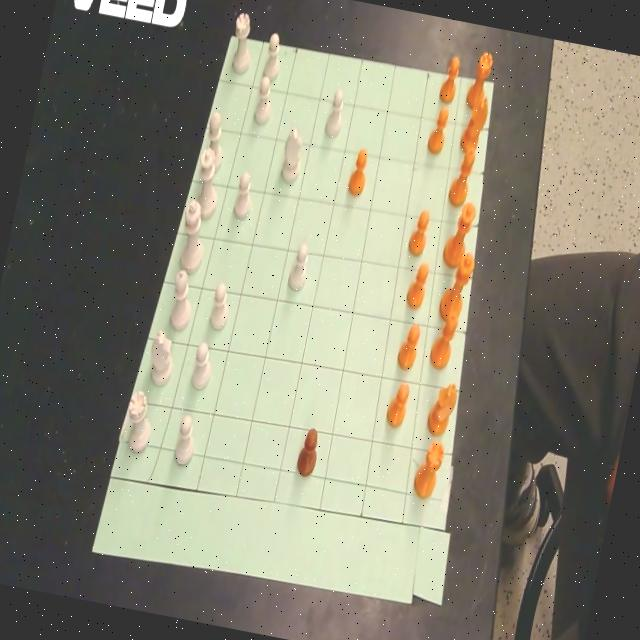orange_bishop: (430, 310, 458, 368), (449, 151, 474, 207)
orange_king: (439, 253, 473, 321)
orange_knight: (460, 97, 488, 153), (427, 383, 456, 436)
orange_pawn: (397, 324, 420, 368), (406, 264, 428, 308), (387, 384, 409, 427), (408, 210, 429, 255), (427, 108, 448, 153), (297, 429, 317, 475), (439, 57, 459, 103), (348, 150, 367, 195), (482, 80, 483, 81)
orange_queen: (443, 203, 476, 267)
orange_rook: (414, 442, 443, 497), (467, 52, 492, 109)
white_bishop: (170, 270, 190, 329), (209, 112, 222, 170)
white_king: (180, 200, 202, 272)
white_knight: (281, 128, 302, 182), (151, 331, 172, 385)
white_pawn: (288, 243, 308, 290), (175, 414, 193, 464), (192, 343, 211, 388), (325, 90, 343, 136), (210, 283, 228, 329), (254, 76, 270, 124), (263, 33, 279, 81), (234, 171, 250, 218)
white_queen: (198, 148, 216, 219)
white_rook: (127, 391, 151, 452), (232, 13, 250, 73)
